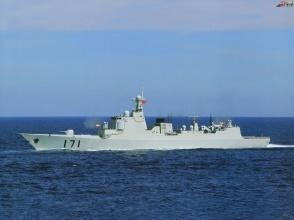warship: (16, 88, 275, 153)
